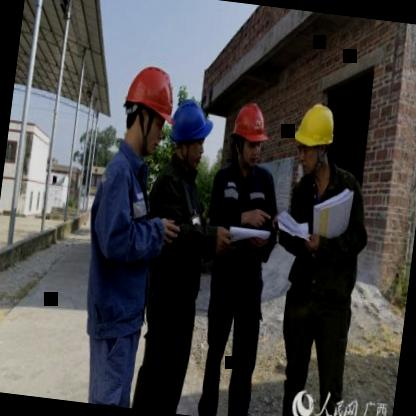helmet: (113, 59, 181, 164), (286, 94, 343, 178), (164, 92, 214, 168), (226, 96, 272, 174)
